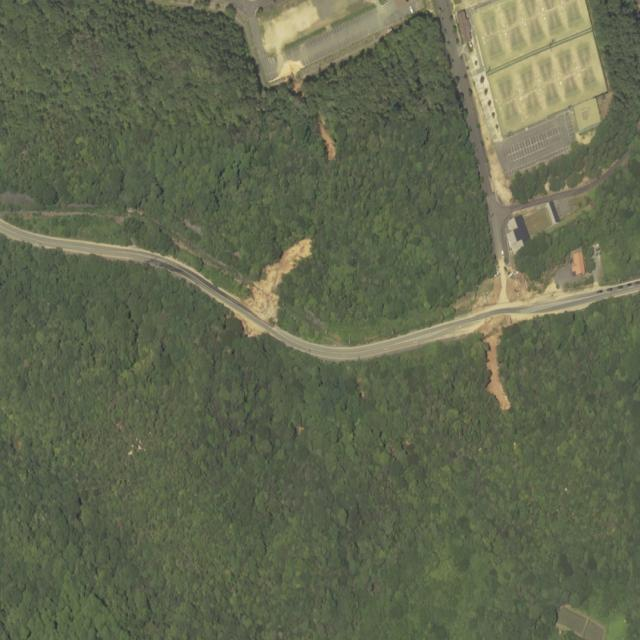landslide: (243, 238, 311, 323), (235, 314, 261, 337)
